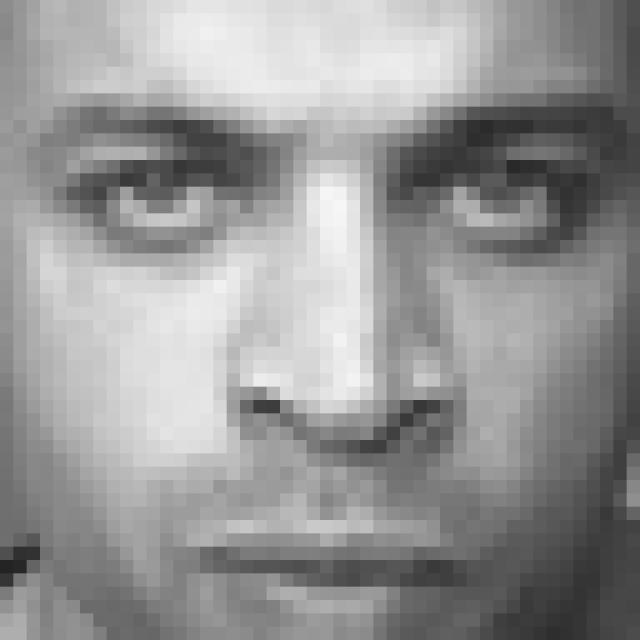neutral: (34, 90, 640, 640)
